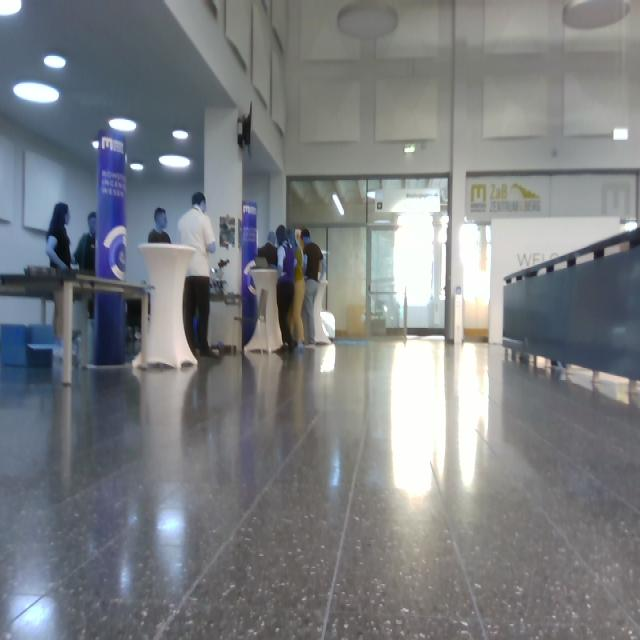door: (327, 225, 368, 340)
light bulb: (337, 1, 399, 41), (563, 1, 631, 30), (13, 81, 60, 104), (159, 154, 191, 169), (109, 117, 137, 133), (1, 1, 22, 17), (44, 54, 66, 69), (332, 193, 345, 216), (613, 128, 629, 141), (172, 129, 189, 140), (438, 228, 448, 244), (624, 221, 638, 232), (130, 162, 144, 172), (404, 144, 416, 153), (92, 140, 100, 149)
person: (178, 192, 220, 360), (46, 202, 78, 345), (301, 229, 325, 346), (276, 225, 297, 353), (148, 208, 172, 244)
pillar: (92, 128, 128, 366)
staircase: (501, 224, 640, 392)
tiled floor: (1, 335, 639, 639)
